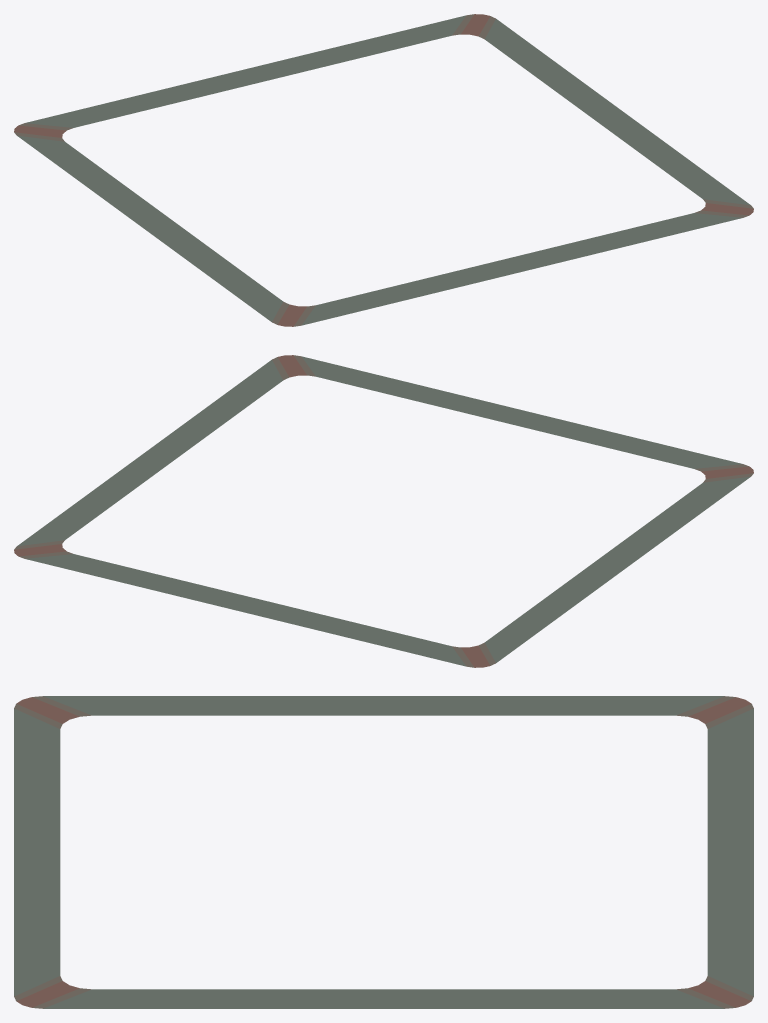
Rendered from finge.fbx.
3 renders of one model, top to bottom at view 1: azimuth 30°, elevation 25°; view 2: azimuth 150°, elevation 25°; view 3: azimuth 270°, elevation 25°, orthographic. The views are drawn at different scales.
Parts seen in each view (by area): view 1: Fringe; view 2: Fringe; view 3: Fringe.
Part boxes in pixels (box(x1,y1,x2,y2)): Fringe: box(14, 14, 753, 326); Fringe: box(14, 355, 753, 667); Fringe: box(14, 696, 753, 1008).
Bounding box in the file's own units: 3448 × 0 × 3448.
